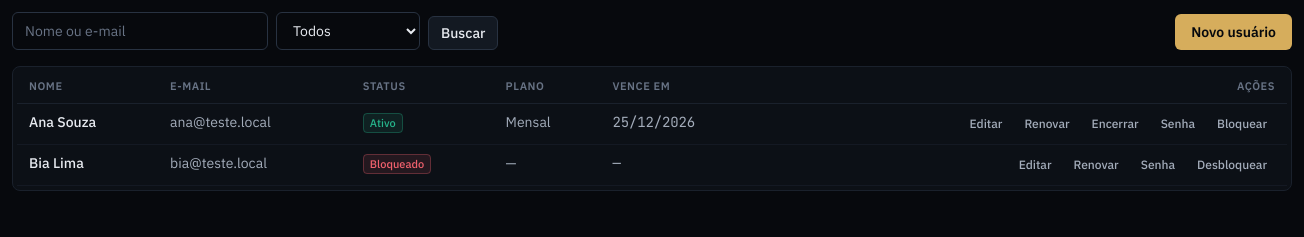
Test: GestaoUsuarios › redefinir senha envia PATCH {senha_temporaria} validada
The image size is (1304, 237).
Later steps or results of the test are not shown.
Click the button with aria-label "Redefinir senha de Ana Souza" at point(1178, 124), box x1=1153 y1=112 x2=1203 y2=136
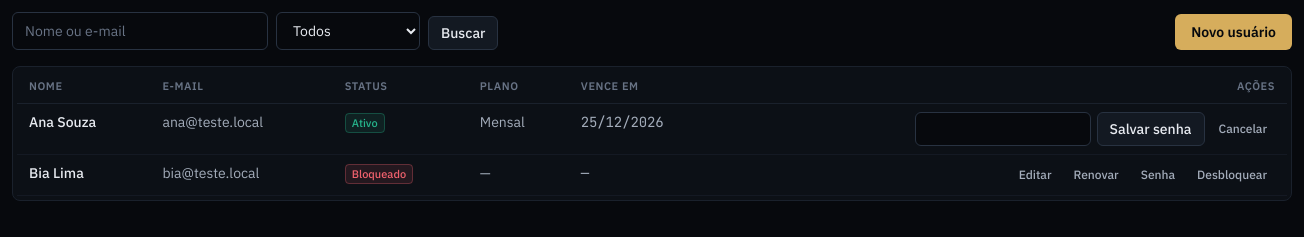
Type "curta" into the field named "Nova senha temporária" at point(1003, 129), box x1=915 y1=112 x2=1091 y2=146
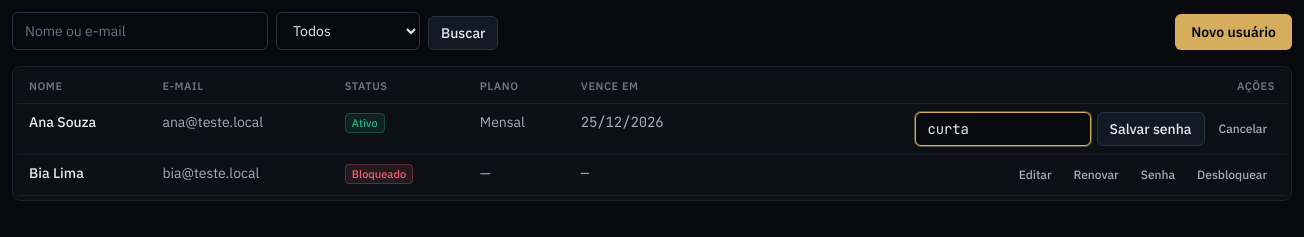
Click the button "Salvar senha" at point(1151, 129), box x1=1097 y1=112 x2=1205 y2=146
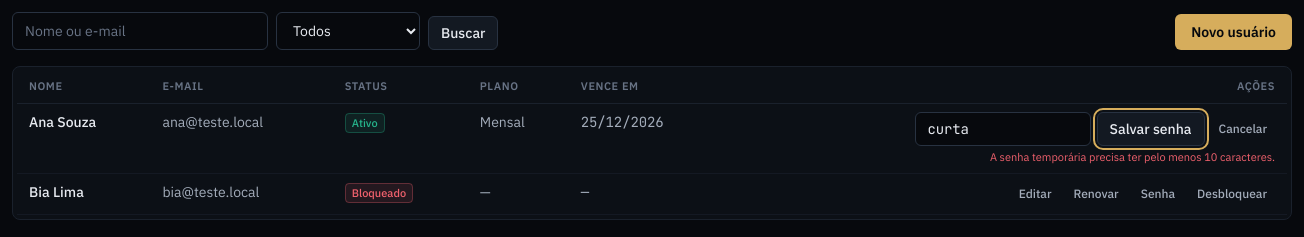
Expected: the message reads "A senha temporária precisa ter pelo menos 10 caracteres.", x1=990 y1=150 x2=1275 y2=164
